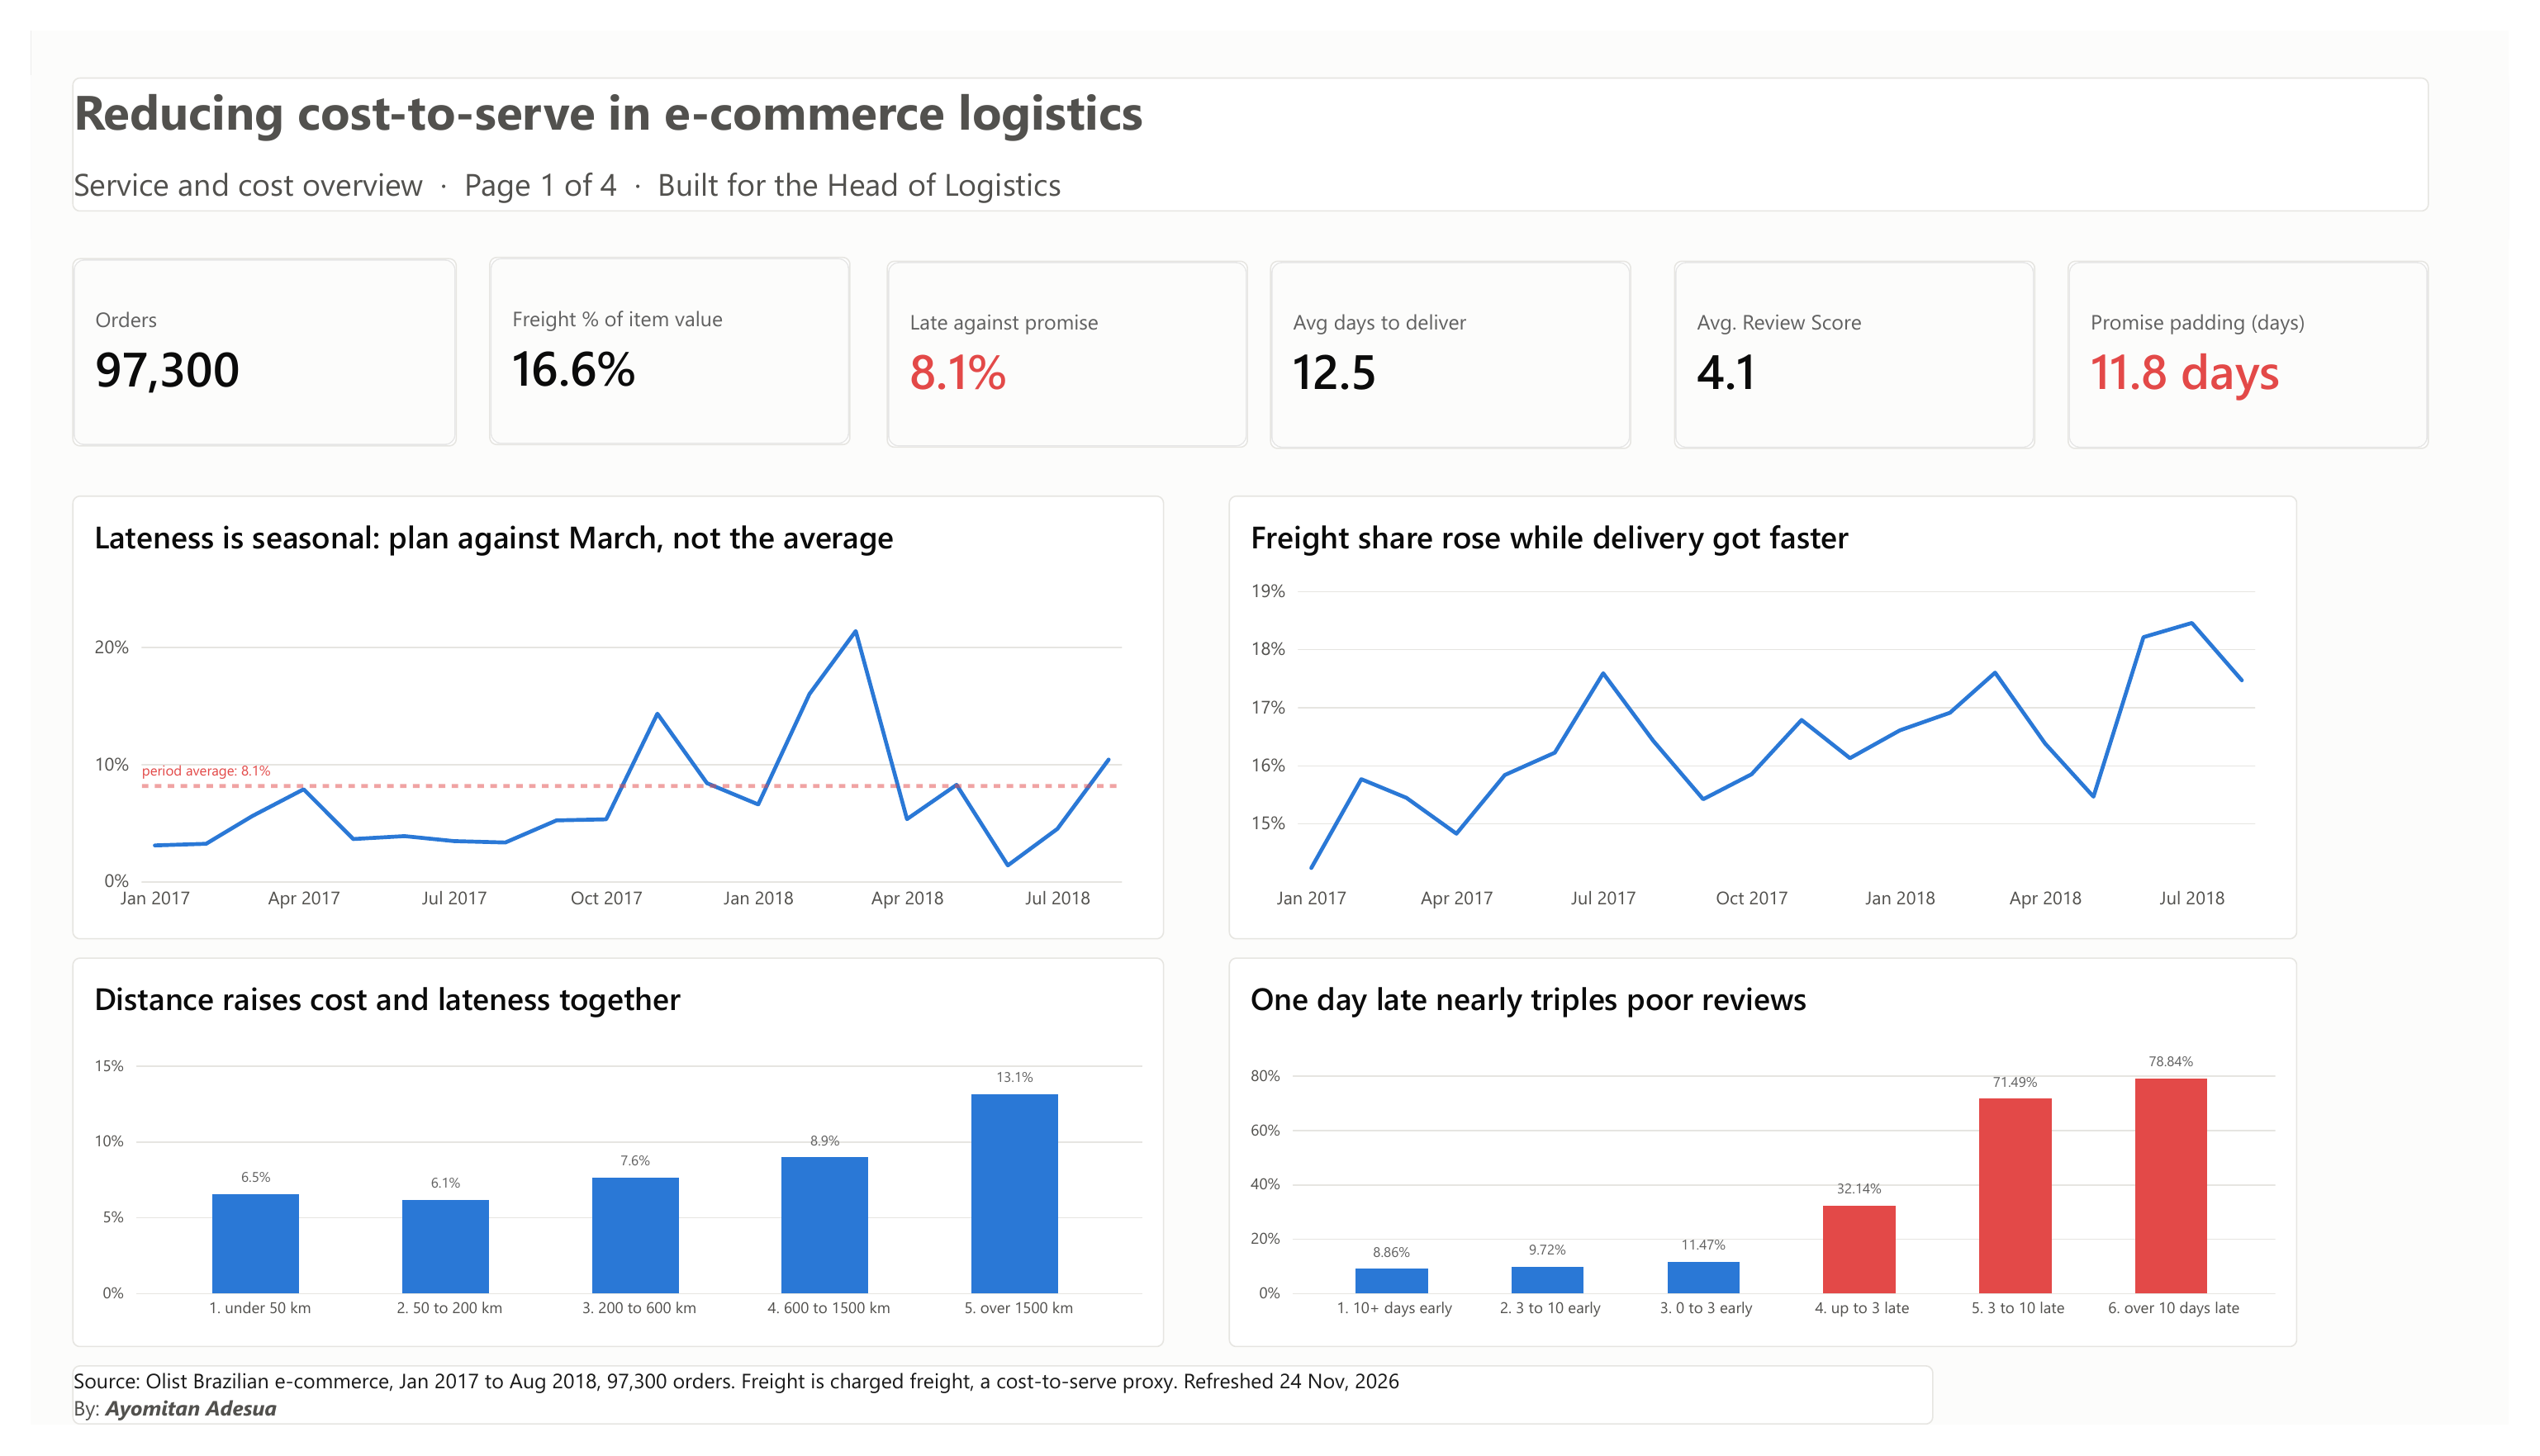

This screenshot's page, from the dashboard's own definition file:
{"tool":"powerbi","page":{"name":"Service and cost","canvas":[1920,1080],"ordinal":0},"visuals":[{"type":"cardVisual","fields":{"Data":["fact_orders.Total Orders"]},"box":[32,176,298,146],"z":0},{"type":"cardVisual","fields":{"Data":["fact_orders.Freight % of Value"]},"box":[355,175,280,146],"z":1000},{"type":"cardVisual","fields":{"Data":["fact_orders.Late Rate"]},"box":[662.5,177.5,280,145],"z":2000},{"type":"cardVisual","fields":{"Data":["LaneDetail.Promise Padding Label"]},"box":[1577.5,177.5,280,146],"z":3000},{"type":"cardVisual","fields":{"Data":["Avg(fact_orders.total_days)"]},"box":[960,177.5,280,146],"z":4000},{"type":"cardVisual","fields":{"Data":["Avg(fact_orders.review_score)"]},"box":[1272.5,177.5,280,146],"z":5000},{"type":"lineChart","title":"Lateness is seasonal: plan against March, not the average","fields":{"Category":["fact_orders.purchase_month.Variation.Date Hierarchy.Year","fact_orders.purchase_month.Variation.Date Hierarchy.Quarter","fact_orders.purchase_month.Variation.Date Hierarchy.Month","fact_orders.purchase_month.Variation.Date Hierarchy.Day"],"Y":["fact_orders.Late Rate"]},"box":[32,360,846,344],"z":6000},{"type":"lineChart","title":"Freight share rose while delivery got faster","fields":{"Category":["fact_orders.purchase_month.Variation.Date Hierarchy.Year","fact_orders.purchase_month.Variation.Date Hierarchy.Quarter","fact_orders.purchase_month.Variation.Date Hierarchy.Month","fact_orders.purchase_month.Variation.Date Hierarchy.Day"],"Y":["fact_orders.Freight % of Value"]},"box":[928,360,828,344],"z":7000},{"type":"columnChart","title":"Distance raises cost and lateness together ","fields":{"Category":["fact_orders.distance_band"],"Y":["fact_orders.Late Rate"]},"box":[32,718,846,302],"z":8000},{"type":"columnChart","title":"One day late nearly triples poor reviews","fields":{"Category":["fact_orders.lateness_band"],"Y":["fact_orders.Poor Review Rate"]},"box":[928,718,828,302],"z":9000},{"type":"textbox","box":[32,36,1826,104],"z":10000},{"type":"textbox","box":[32,1034,1442,46],"z":11000}]}

Visuals, with their boxes on the page's 1920x1080 design canvas (x1, y1, x2, y2). These are canvas units, not pixel positions in the 2540x1456 screenshot, which may show the page scaled, cropped or inside an application window:
cardVisual - fact_orders.Total Orders: {"left": 32, "top": 176, "right": 330, "bottom": 322}
cardVisual - fact_orders.Freight % of Value: {"left": 355, "top": 175, "right": 635, "bottom": 321}
cardVisual - fact_orders.Late Rate: {"left": 662, "top": 178, "right": 942, "bottom": 322}
cardVisual - LaneDetail.Promise Padding Label: {"left": 1578, "top": 178, "right": 1858, "bottom": 324}
cardVisual - Avg(fact_orders.total_days): {"left": 960, "top": 178, "right": 1240, "bottom": 324}
cardVisual - Avg(fact_orders.review_score): {"left": 1272, "top": 178, "right": 1552, "bottom": 324}
"Lateness is seasonal: plan against March, not the average" lineChart: {"left": 32, "top": 360, "right": 878, "bottom": 704}
"Freight share rose while delivery got faster" lineChart: {"left": 928, "top": 360, "right": 1756, "bottom": 704}
"Distance raises cost and lateness together " columnChart: {"left": 32, "top": 718, "right": 878, "bottom": 1020}
"One day late nearly triples poor reviews" columnChart: {"left": 928, "top": 718, "right": 1756, "bottom": 1020}
textbox: {"left": 32, "top": 36, "right": 1858, "bottom": 140}
textbox: {"left": 32, "top": 1034, "right": 1474, "bottom": 1080}
